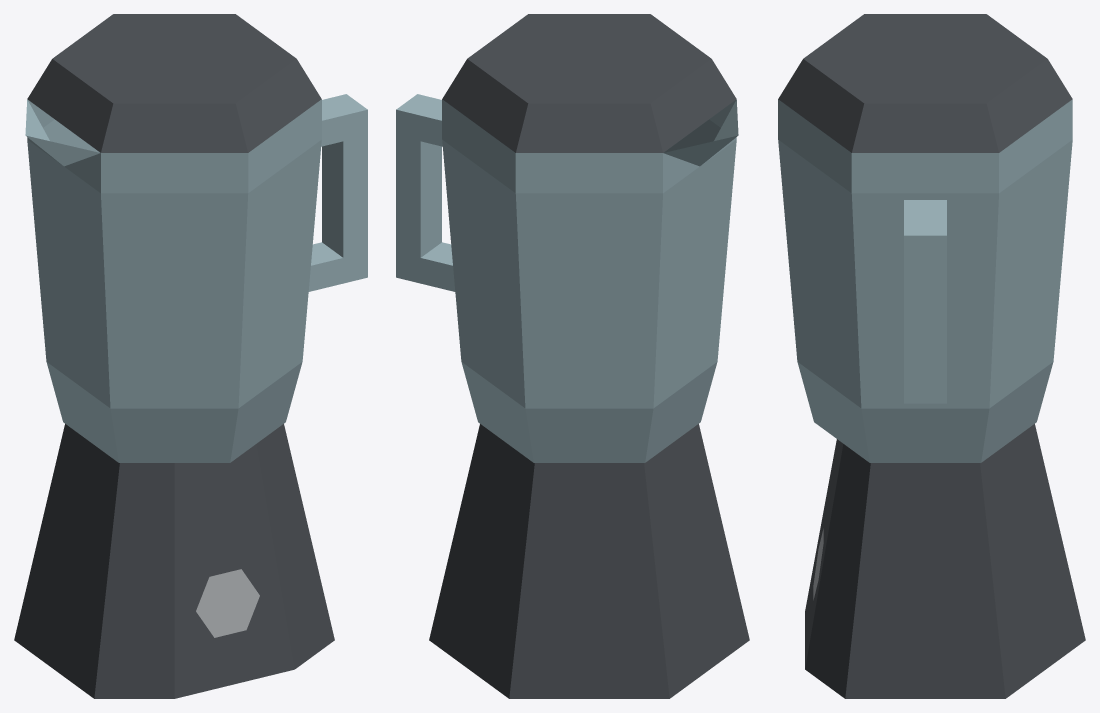
File: blender.glb
3 renders of one model, left to right at view 1: azimuth 30°, elevation 25°; view 2: azimuth 150°, elevation 25°; view 3: azimuth 270°, elevation 25°, orthographic.
Parts seen in each view (by area): view 1: blender; view 2: blender; view 3: blender.
Part boxes in pixels (x1=…): blender: x1=14, y1=14, x2=367, y2=698; blender: x1=396, y1=14, x2=749, y2=698; blender: x1=778, y1=14, x2=1085, y2=698.
Bounding box in the file's own units: 0.2388 × 0.4 × 0.1918.
